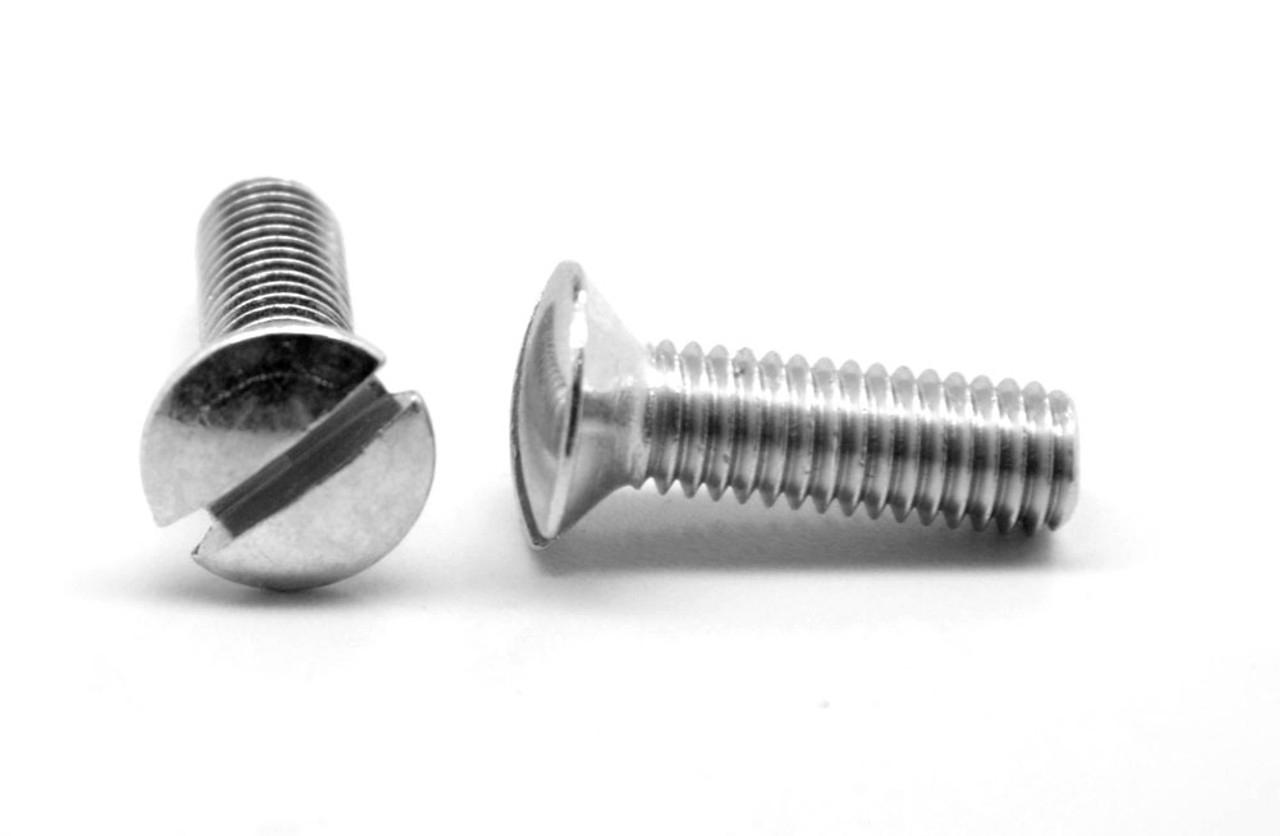screw: (140, 324, 441, 599)
